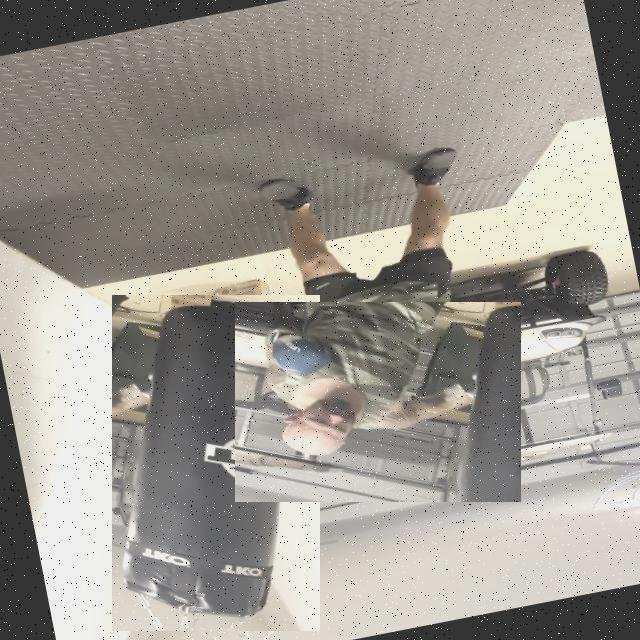punch: (235, 302, 521, 502)
